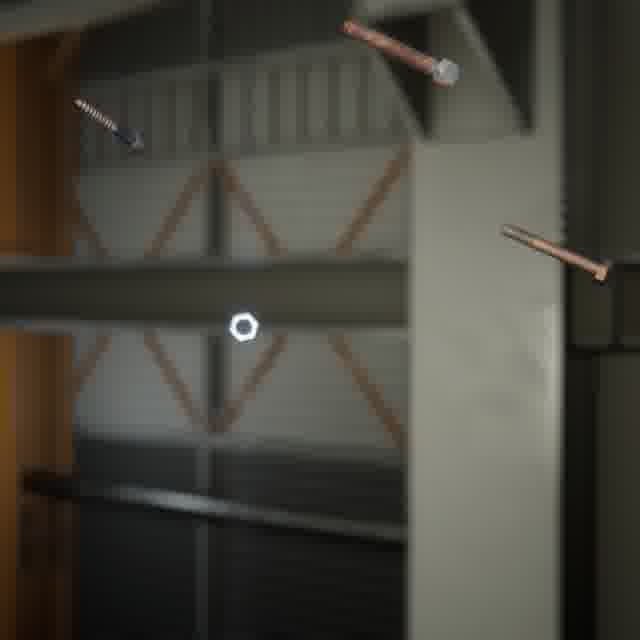bolt: (338, 15, 463, 93), (497, 218, 618, 290), (70, 94, 150, 159)
nut: (224, 307, 263, 347)
